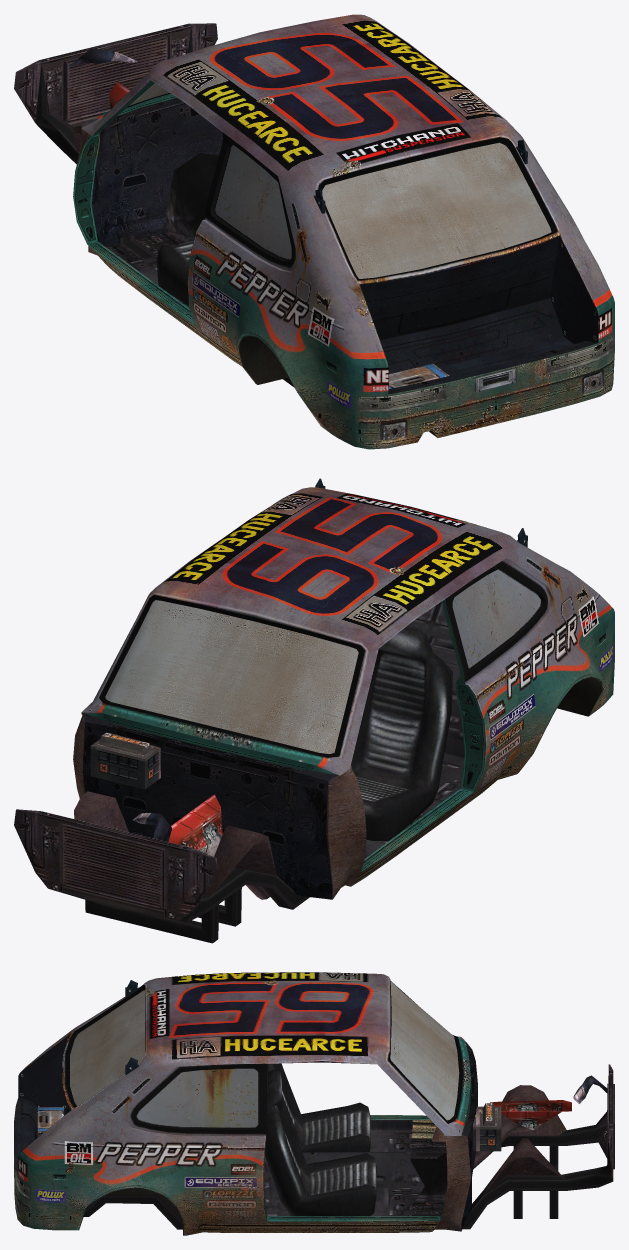
Rendered from body.fbx.
3 renders of one model, top to bottom at view 1: azimuth 30°, elevation 25°; view 2: azimuth 150°, elevation 25°; view 3: azimuth 270°, elevation 25°, orthographic. The views are drawn at different scales.
Parts seen in each view (by area): view 1: body.001; view 2: body.001; view 3: body.001.
Part boxes in pixels (x1,y1,x2,y2): body.001: (14,14,614,449); body.001: (14,478,614,943); body.001: (14,972,614,1235).
Size of the model in its own units: 163 by 120 by 343.
